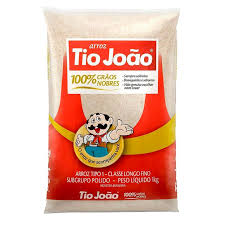arroz: (35, 5, 184, 216)
